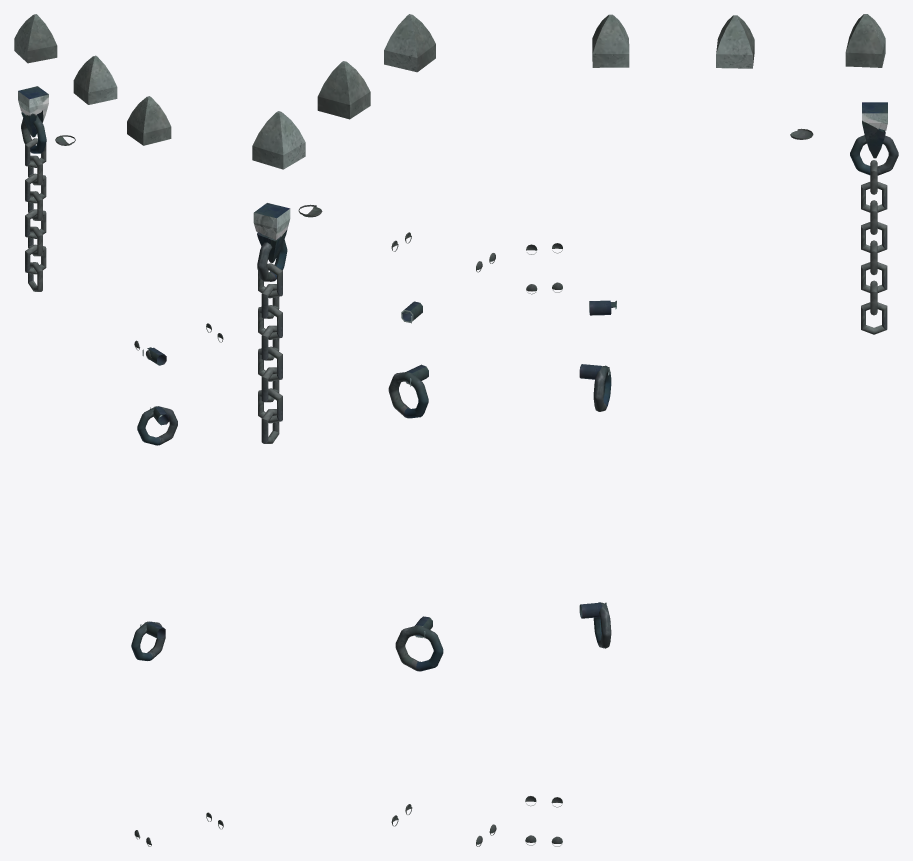
3 renders of one model, left to right at view 1: azimuth 30°, elevation 25°; view 2: azimuth 150°, elevation 25°; view 3: azimuth 270°, elevation 25°, orthographic. The views are drawn at different scales.
Parts seen in each view (by area): view 1: SM_Stone_Arch_01v3_LOD0; view 2: SM_Stone_Arch_01v3_LOD0; view 3: SM_Stone_Arch_01v3_LOD0.
Part boxes in pixels (x1,y1,x2,y2): SM_Stone_Arch_01v3_LOD0: (14, 14, 223, 846); SM_Stone_Arch_01v3_LOD0: (252, 14, 496, 846); SM_Stone_Arch_01v3_LOD0: (525, 14, 898, 846).
Size of the model in its own units: 0.6501 by 5.94 by 2.48.
